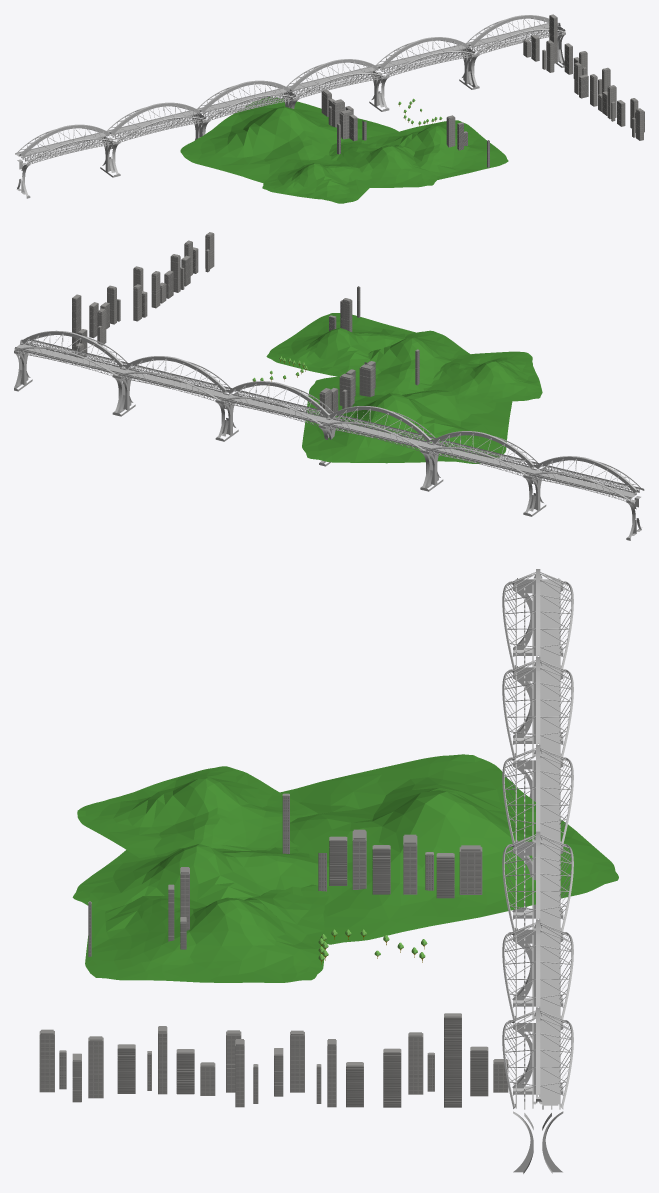
3 renders of one model, top to bottom at view 1: azimuth 30°, elevation 25°; view 2: azimuth 150°, elevation 25°; view 3: azimuth 270°, elevation 25°, orthographic. The views are drawn at different scales.
Visible parts, largest first — view 1: Layer0_001 (×2), Ground_02 (2), Ground_02 (1), Ground_02 (3), Ground_02; view 2: Layer0_001 (×2), Ground_02 (2), Ground_02 (1), Ground_02 (3), Ground_02; view 3: Ground_02 (2), Layer0_001 (×2), Ground_02 (1), Ground_02 (3), Ground_02.
Part boxes in pixels (x1,y1,x2,y2): Layer0_001 (×2): (15,15,565,198); Ground_02 (2): (180,97,398,183); Ground_02 (1): (361,120,508,179); Ground_02 (3): (262,155,376,203); Ground_02: (329,138,437,187); Layer0_001 (×2): (14,330,644,540); Ground_02 (2): (302,376,512,463); Ground_02 (1): (266,313,415,383); Ground_02 (3): (423,351,542,403); Ground_02: (355,330,470,395); Ground_02 (2): (280,754,618,944); Layer0_001 (×2): (502,569,573,1173); Ground_02 (1): (85,884,328,982); Ground_02 (3): (77,766,317,857); Ground_02: (72,844,352,910).
Bounding box in the file's own units: 1529 × 186 × 711.
Materials: 5 (2 with a texture image).
